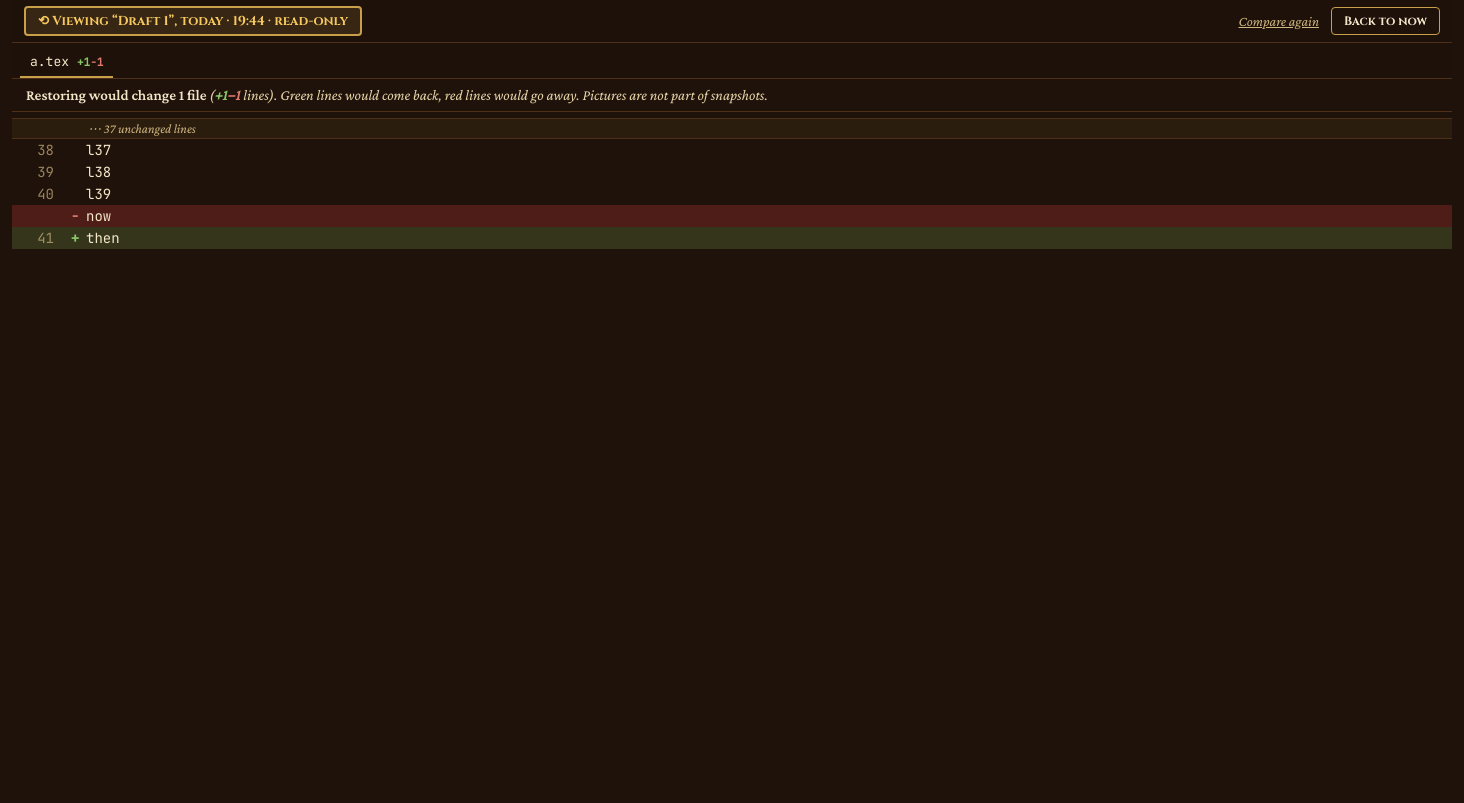
DiffViewComponent › folds long unchanged stretches and unfolds on request
The image size is (1464, 803).
Click the button with class "fold": (142, 128) [12,118,1452,139]
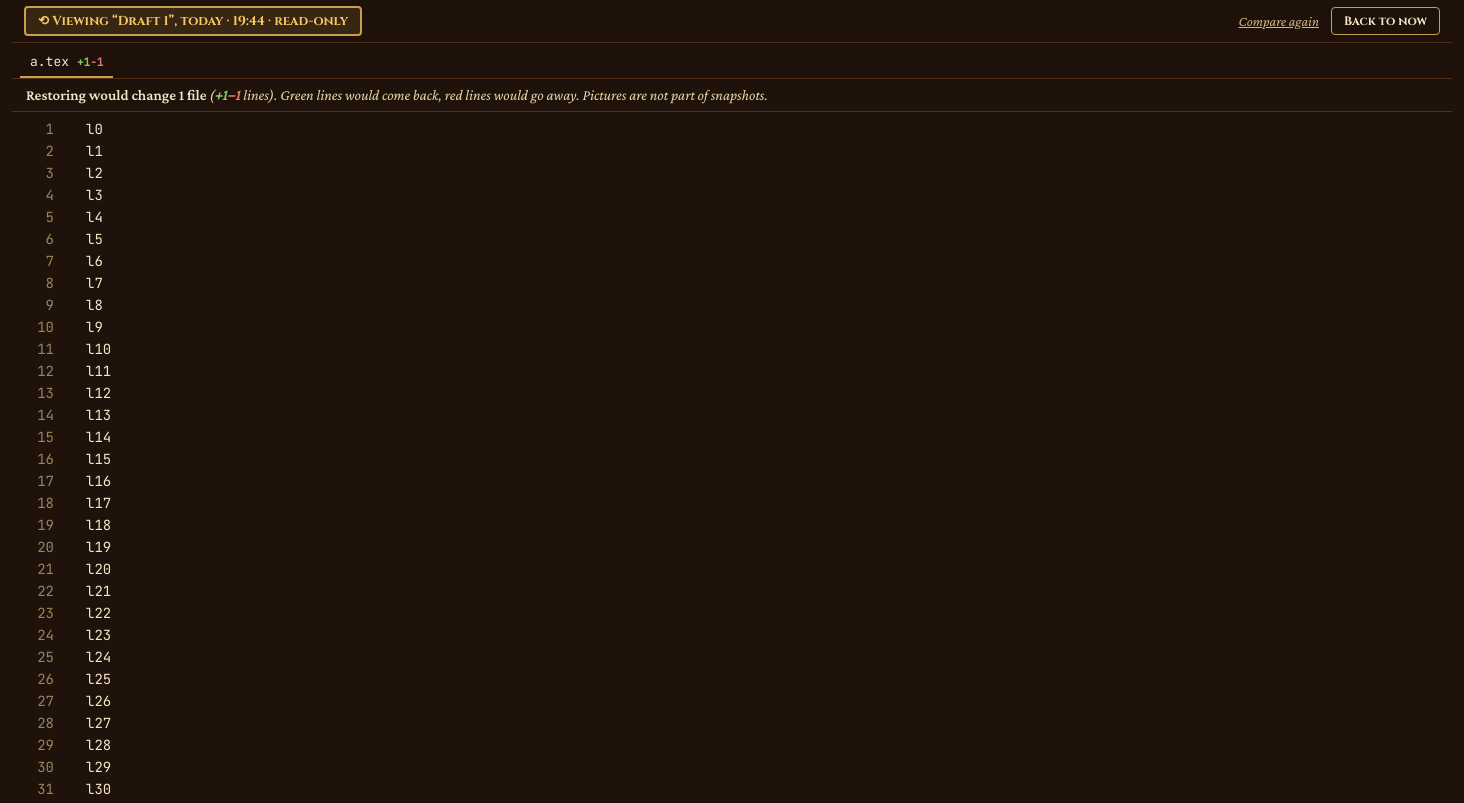
Result: no buttons with class "fold" are shown
